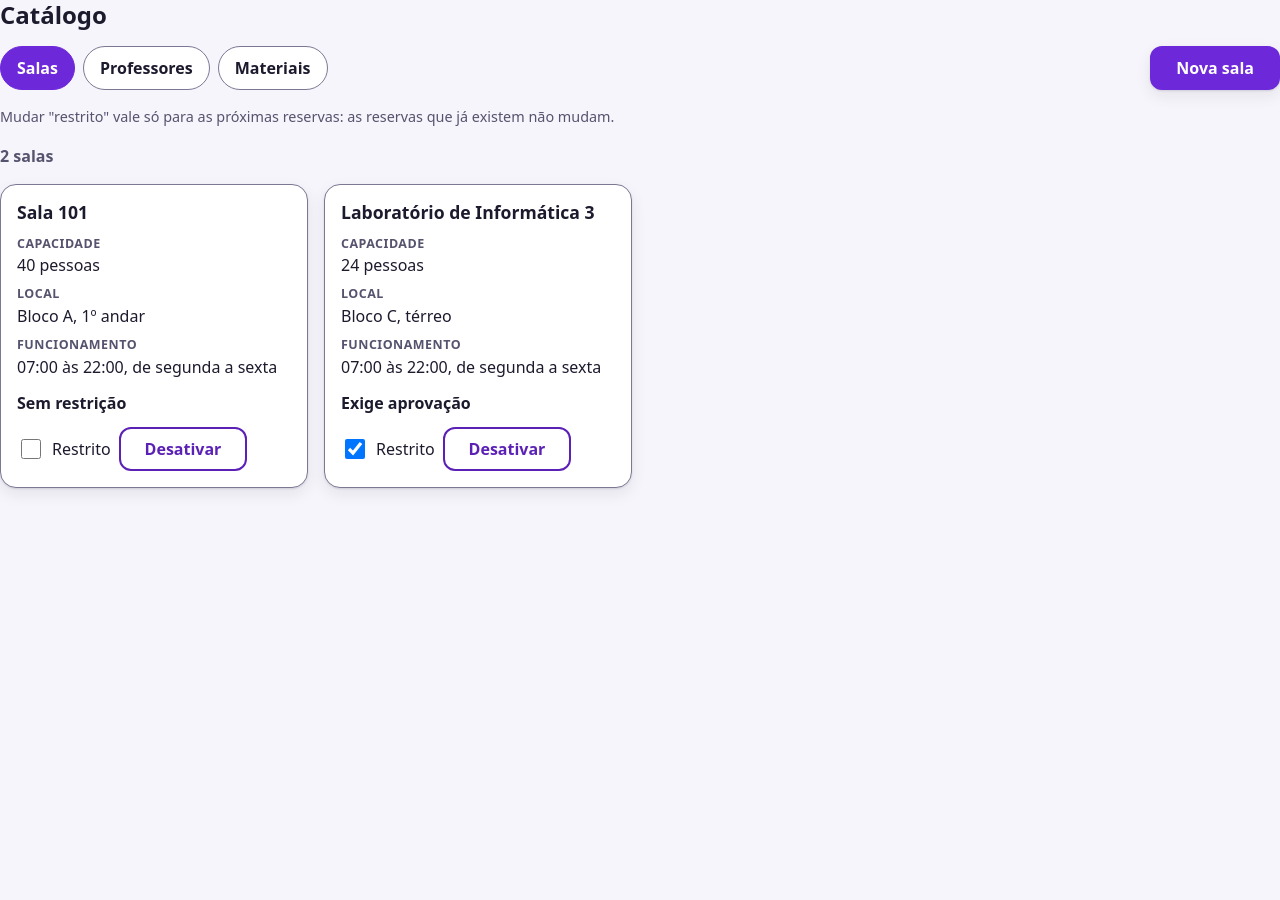
it: PaginaDoCatalogo: desativar (irreversível, com confirmação) › só abre o diálogo do recurso escolhido
Click the button "Desativar" below "Exige aprovação": (507, 449) [443,427,571,471]
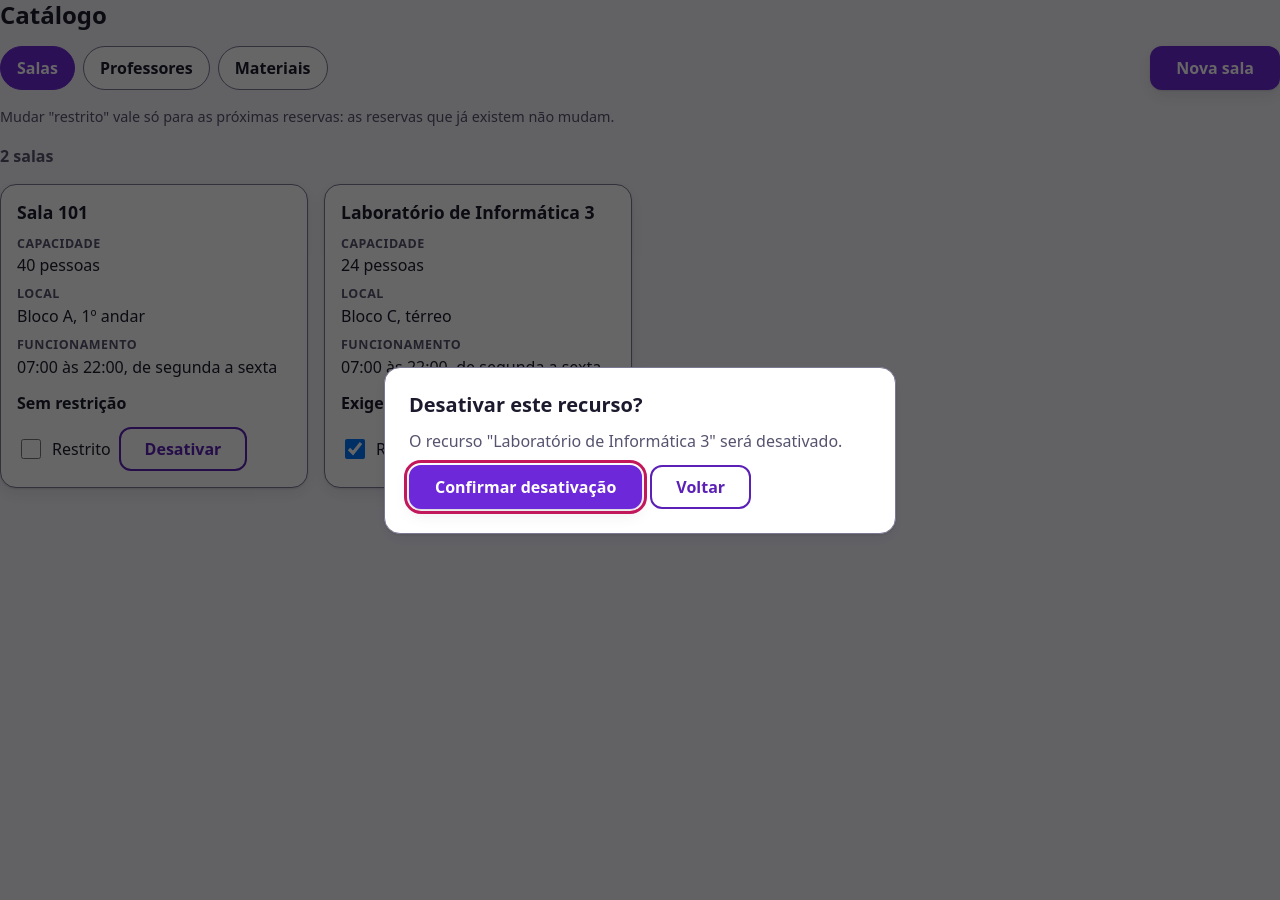
Expected: the number of dialogs is 1, [384,366,896,534]
